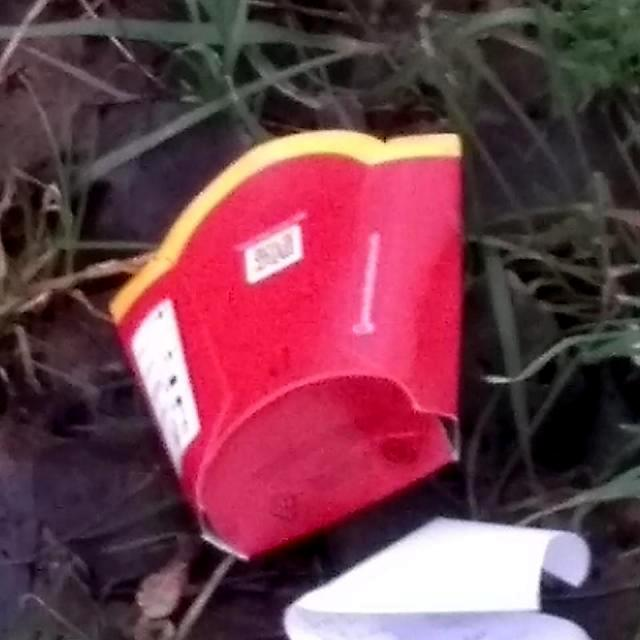Paper: (104, 123, 468, 567)
